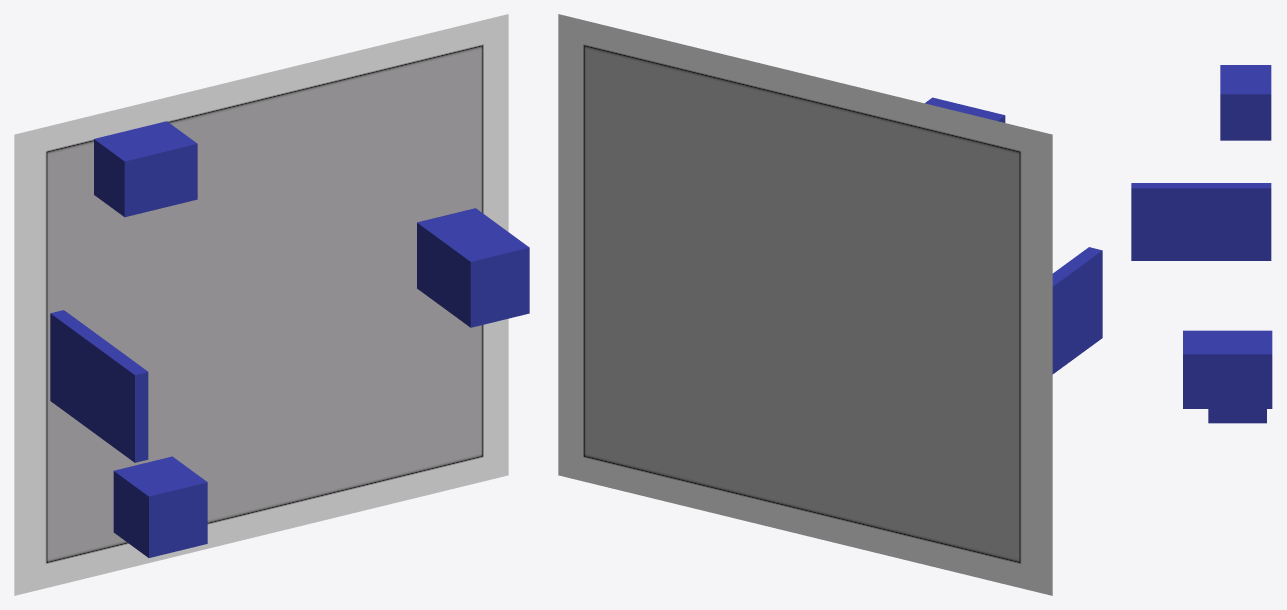
File: sample_map.fbx
3 views of the same model, side by side, from view 1: azimuth 30°, elevation 25°; view 2: azimuth 150°, elevation 25°; view 3: azimuth 270°, elevation 25° (orthographic). The views are drawn at different scales.
Parts seen in each view (by area): view 1: root (×5); view 2: root (×2); view 3: root (×4).
Boxes of the visible parts, box(x1,y1,x2,y2) form: root (×5): box(14, 14, 529, 595); root (×2): box(558, 14, 1102, 595); root (×4): box(1131, 65, 1272, 423).
Size of the model in its own units: 0.296 by 0.264 by 0.0884.
4 materials, 1 textured.
